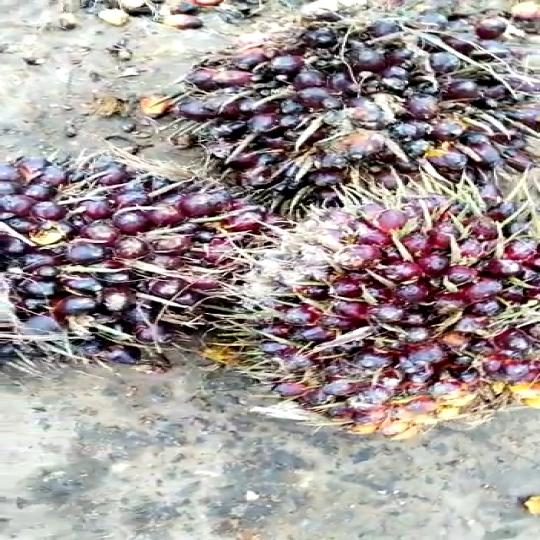kurang masak: (221, 177, 540, 449), (154, 0, 539, 199), (0, 150, 270, 366)
